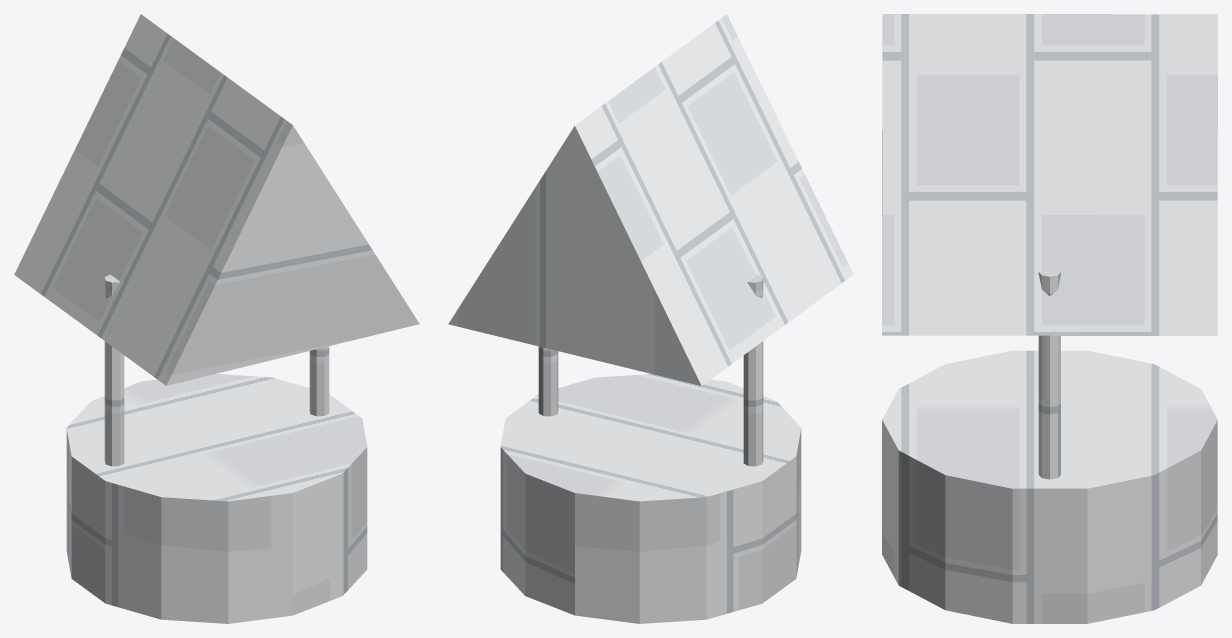
File: WaterWell.glb
3 renders of one model, left to right at view 1: azimuth 30°, elevation 25°; view 2: azimuth 150°, elevation 25°; view 3: azimuth 270°, elevation 25°, orthographic. The views are drawn at different scales.
Visible parts, largest first — view 1: WaterWell; view 2: WaterWell; view 3: WaterWell.
Part boxes in pixels (x1=…): WaterWell: x1=14, y1=14, x2=419, y2=623; WaterWell: x1=448, y1=14, x2=853, y2=623; WaterWell: x1=882, y1=14, x2=1217, y2=623.
Bounding box in the file's own units: 1.75 × 3.2 × 1.8.
1 material, 1 textured.
